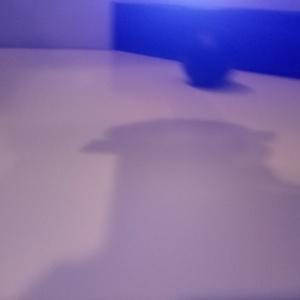dead_ball: (179, 24, 235, 85)
